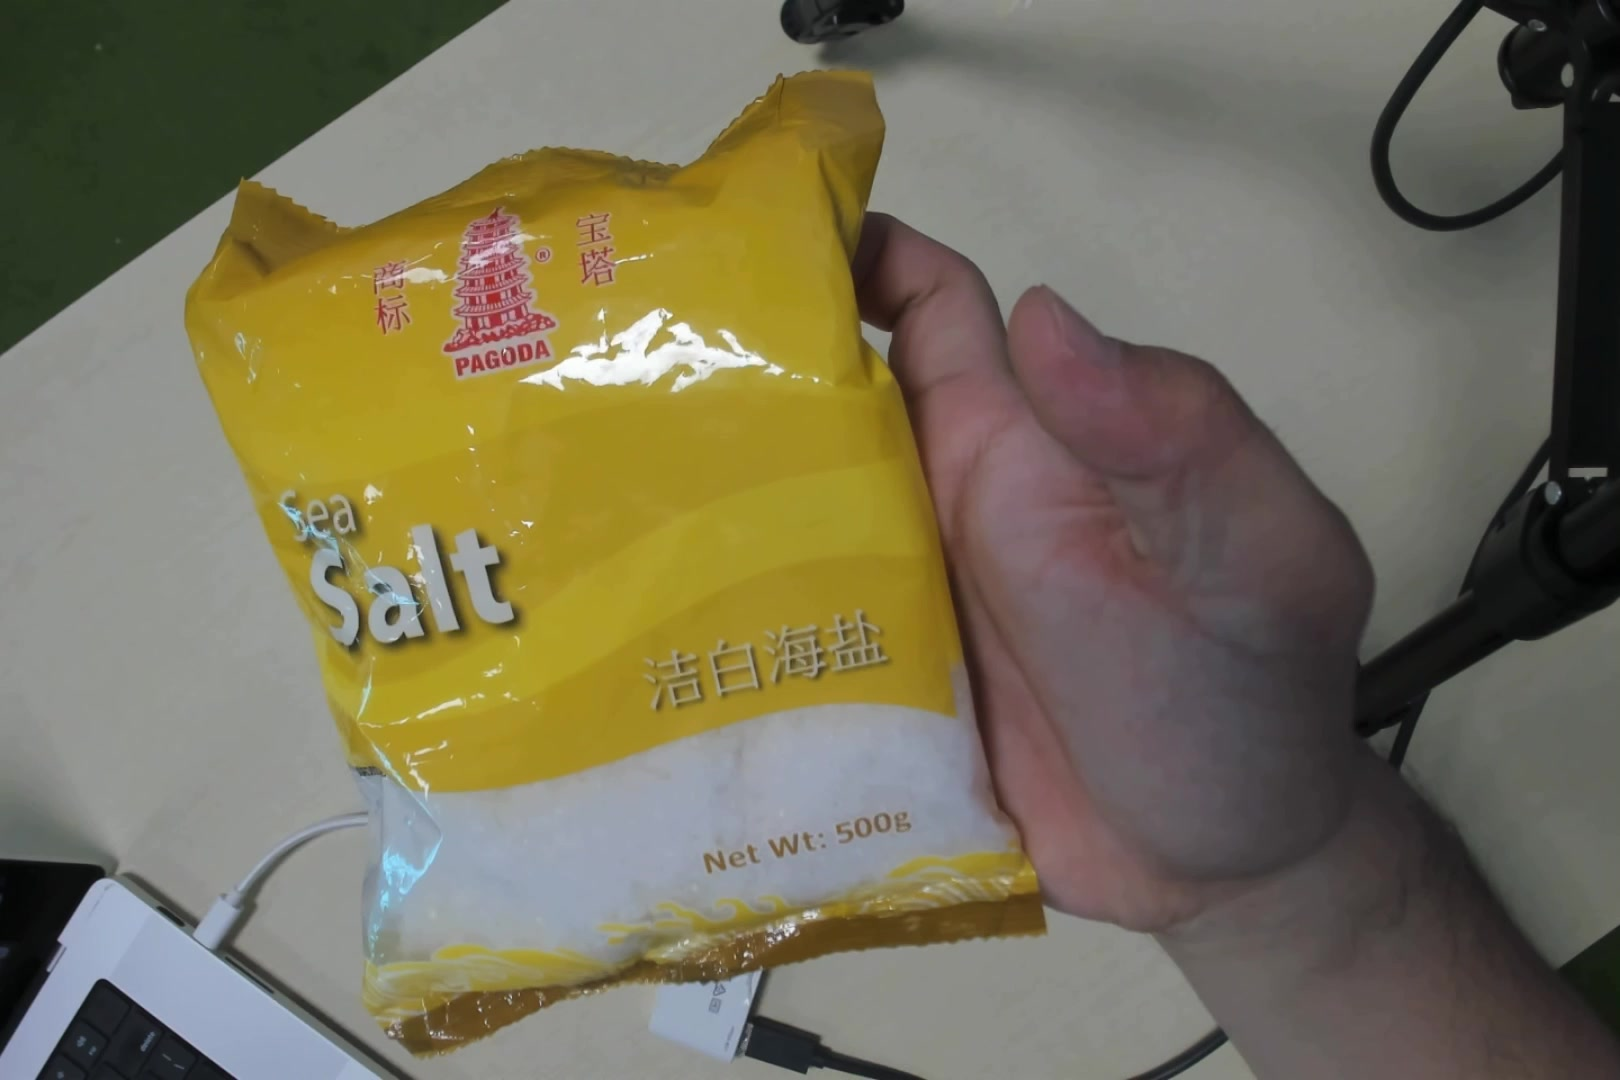Salt_500-599g_Halal_NonHealthy: (292, 131, 915, 959)
